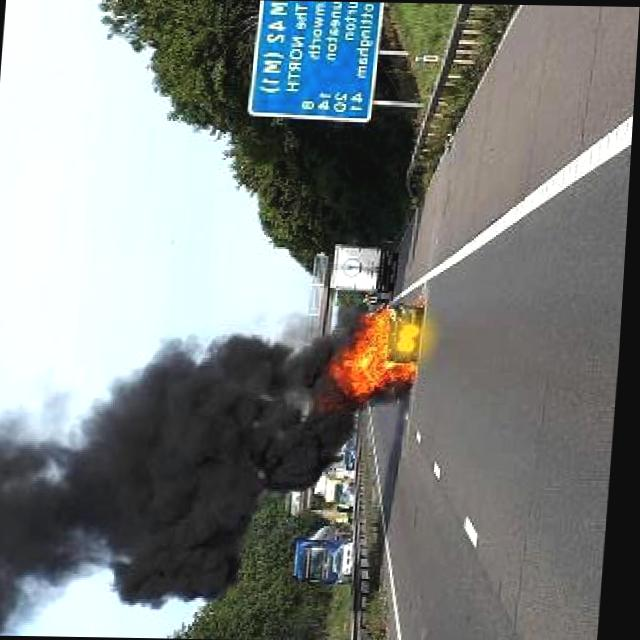Fire: (323, 306, 426, 406)
Smoke: (0, 324, 344, 640)
